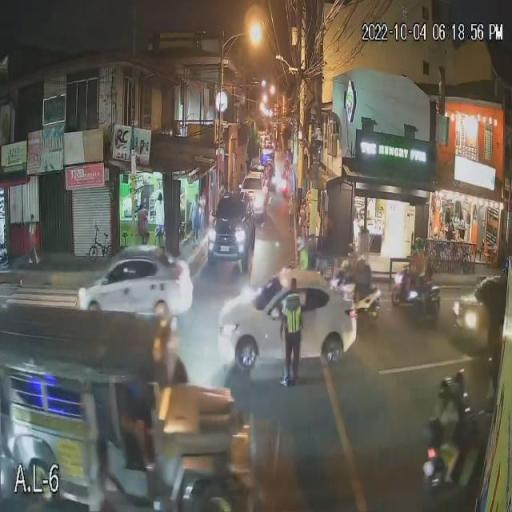helmet: (444, 373, 464, 392), (410, 236, 424, 249), (352, 249, 366, 261)
motorcycle: (421, 373, 472, 492), (394, 271, 441, 327), (334, 270, 382, 324)
rider: (430, 372, 468, 464), (403, 242, 430, 300), (348, 250, 374, 304)
